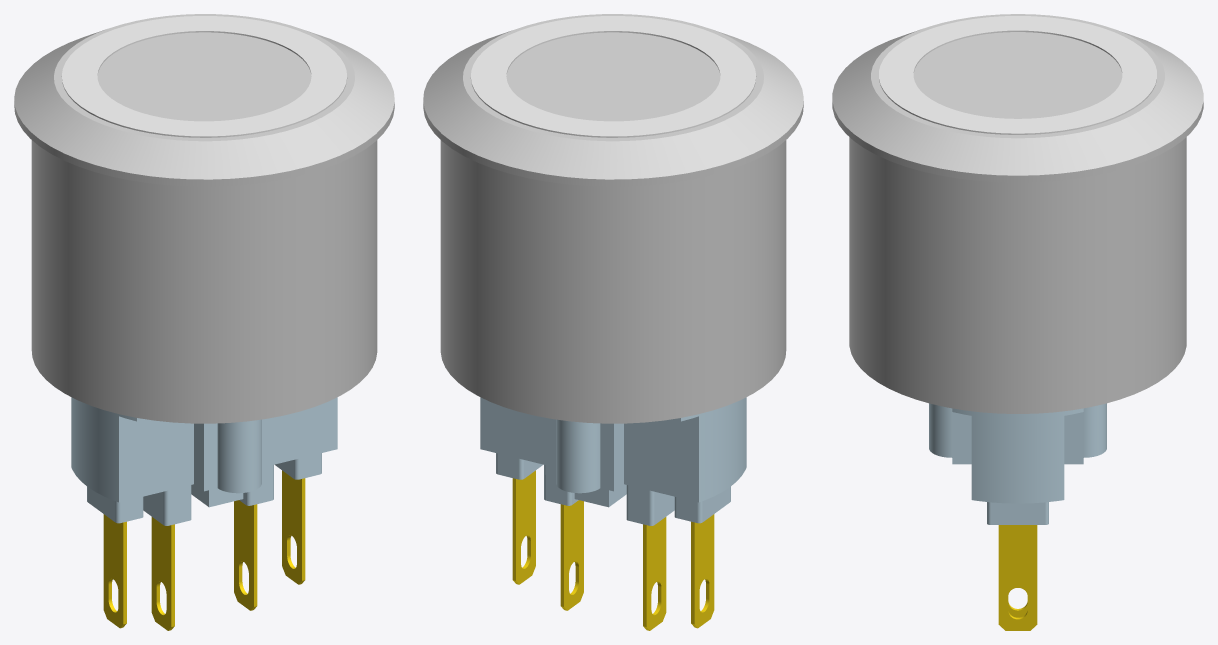
Rendered from push_button_white.dae.
The picture shows the model from 3 angles, left to right: view 1: azimuth 30°, elevation 25°; view 2: azimuth 150°, elevation 25°; view 3: azimuth 270°, elevation 25°; orthographic projection. The views are drawn at different scales.
Visible parts, largest first — view 1: Push Button - White; view 2: Push Button - White; view 3: Push Button - White.
Boxes of the visible parts, x1,y1,x2,y2 form: Push Button - White: (14,14,394,630); Push Button - White: (423,14,803,630); Push Button - White: (832,14,1203,630).
Bounding box in the file's own units: 0.024 × 0.024 × 0.0376.
